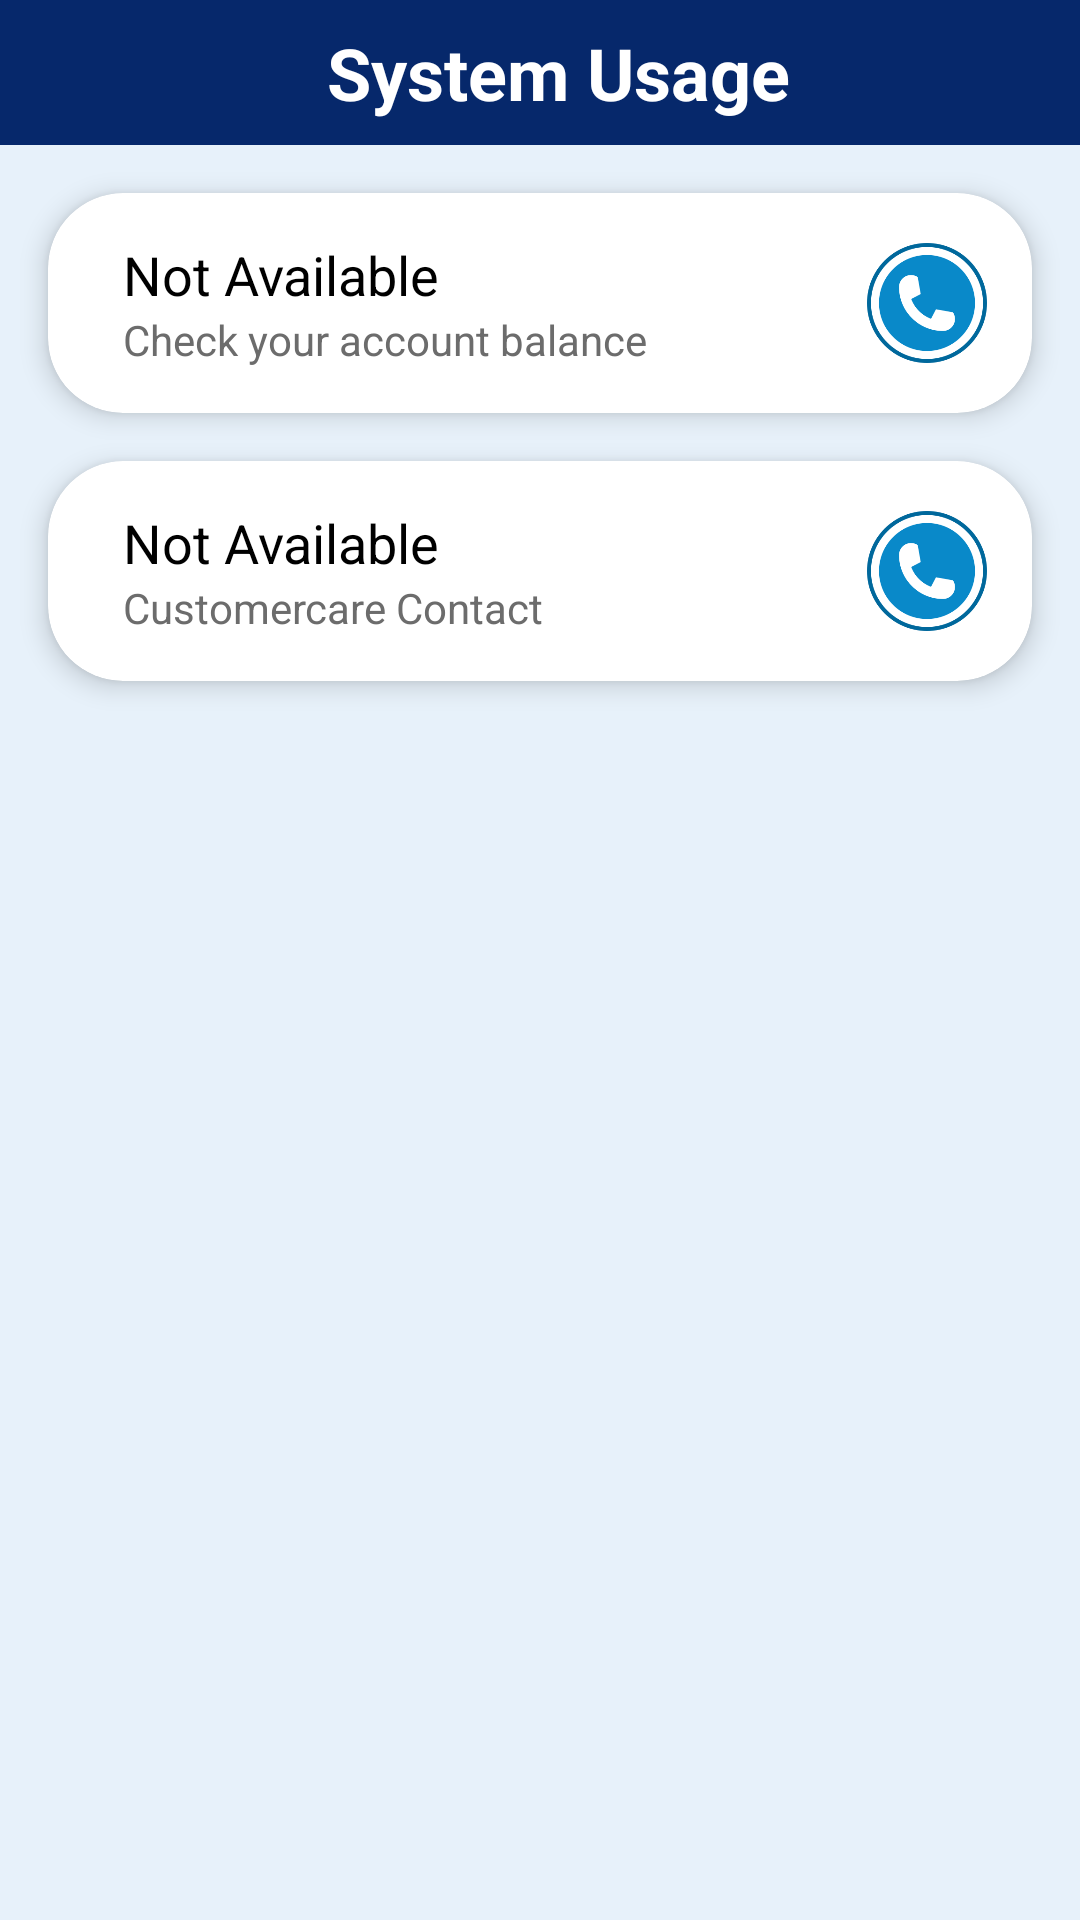

Locate icon controls on the screen. Image size 1080px×1920px, boxes as {"left": x1, "top": y1, "right": x2, "bottom": y2}.
call: {"left": 867, "top": 243, "right": 987, "bottom": 363}, {"left": 867, "top": 511, "right": 987, "bottom": 631}
